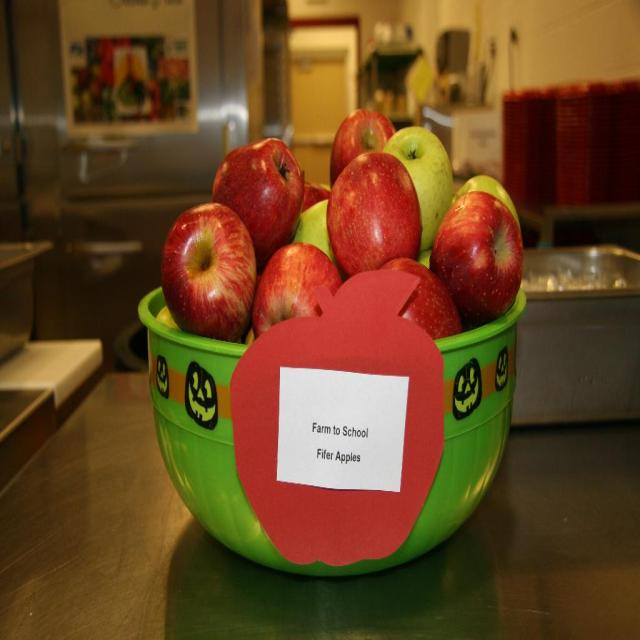Healty Apple: (156, 105, 524, 339), (162, 206, 260, 335), (326, 149, 423, 272)
